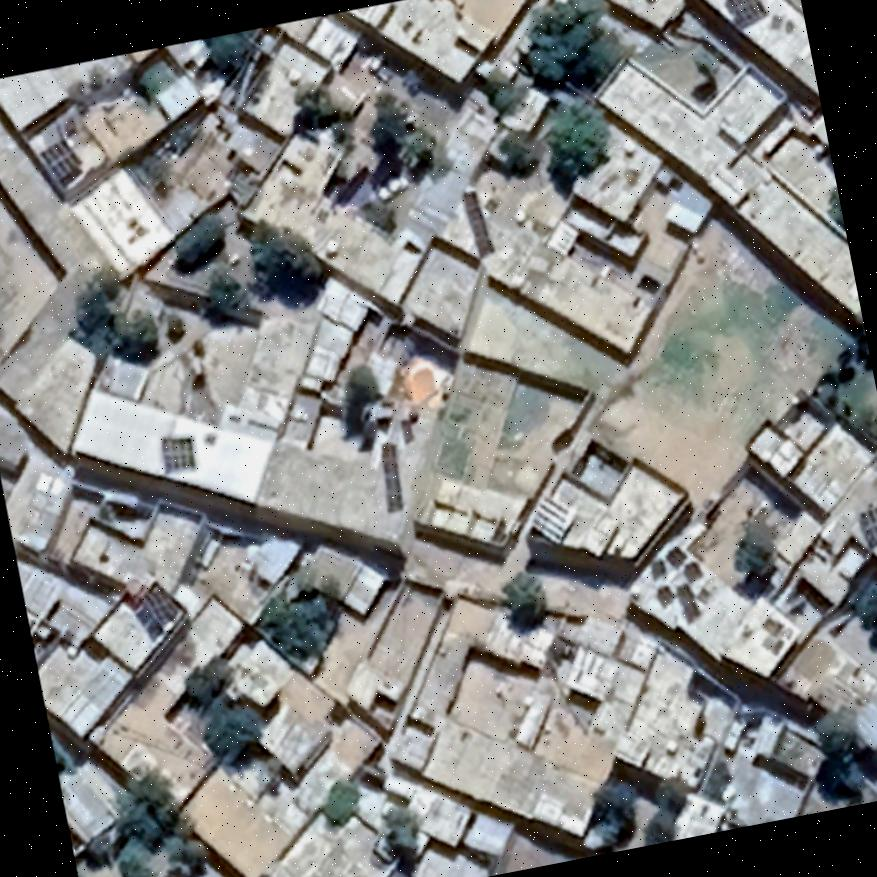Solarpanel: (372, 439, 408, 515), (458, 187, 492, 259), (130, 582, 178, 631), (36, 136, 82, 186), (156, 432, 196, 475), (722, 0, 765, 27), (854, 500, 877, 545)
